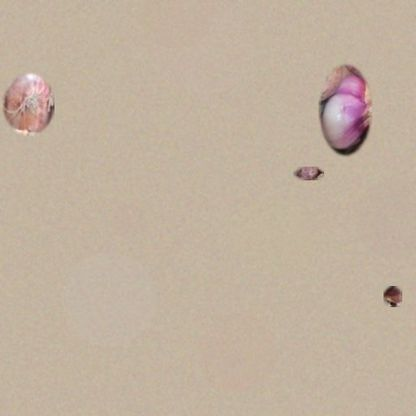damaged: (318, 62, 372, 158)
healthy: (2, 72, 54, 136)
rotten: (293, 167, 324, 180)
sprouted: (384, 286, 402, 307)
